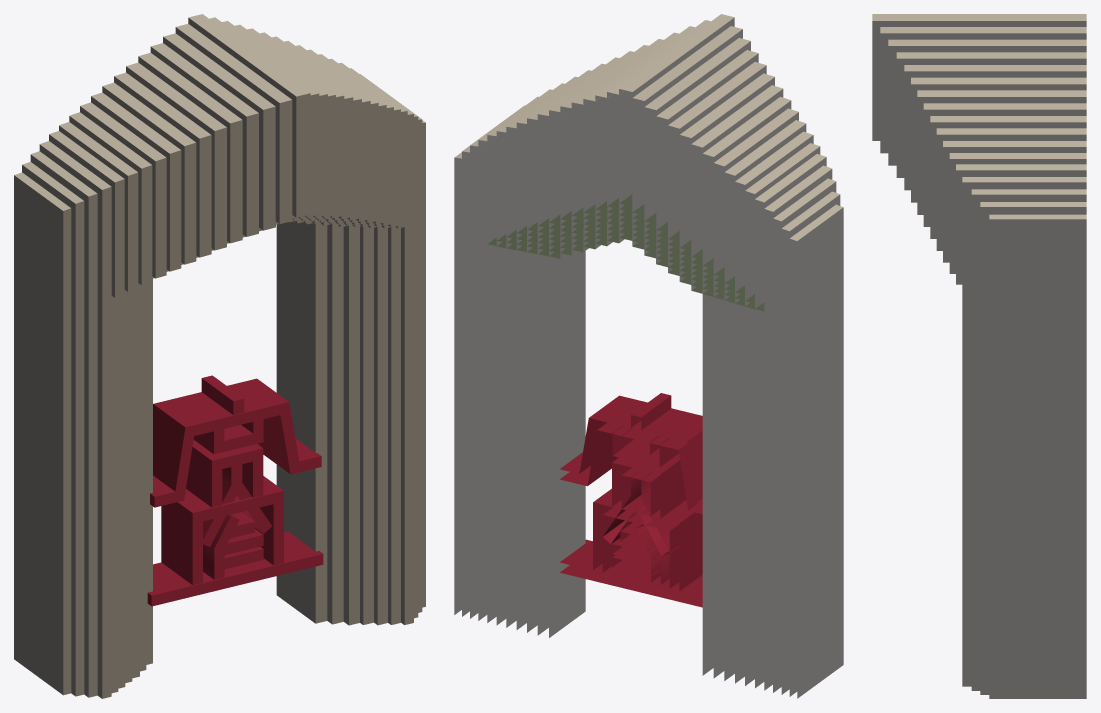
Rendered from KuanZhai.fbx.
3 renders of one model, left to right at view 1: azimuth 30°, elevation 25°; view 2: azimuth 150°, elevation 25°; view 3: azimuth 270°, elevation 25°, orthographic. The views are drawn at different scales.
Parts seen in each view (by area): view 1: Box010; view 2: Box010; view 3: Box010.
Boxes of the visible parts, left/top/right/bottom form: Box010: left=14, top=14, right=425, bottom=698; Box010: left=454, top=14, right=843, bottom=698; Box010: left=872, top=14, right=1086, bottom=698.
Bounding box in the file's own units: 19.59 × 30.95 × 10.13.
